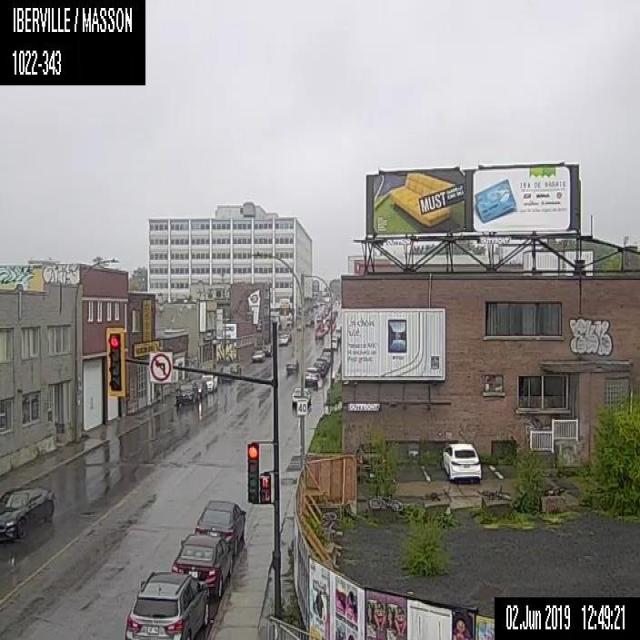vehicle: (123, 569, 210, 639), (171, 532, 233, 597), (0, 484, 53, 540), (193, 499, 246, 554), (441, 441, 481, 481), (174, 380, 198, 404), (290, 386, 310, 406), (190, 378, 208, 398), (200, 372, 218, 392), (217, 364, 233, 384), (304, 366, 320, 382), (250, 347, 265, 362), (312, 360, 325, 376), (285, 358, 298, 373), (227, 362, 240, 375), (262, 343, 272, 356), (277, 334, 287, 345), (304, 316, 314, 326), (331, 336, 337, 350), (127, 634, 144, 638), (285, 334, 291, 342)
